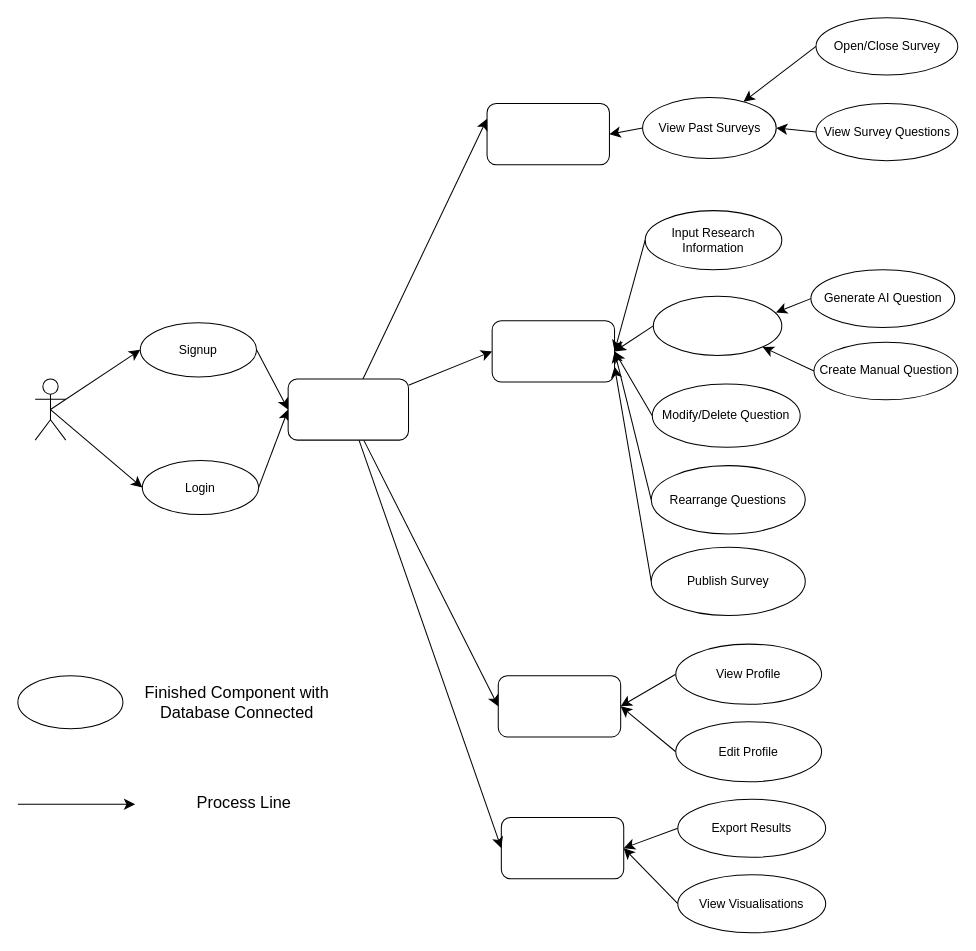
The diagram is 976 pixels wide and 951 high, and some of its shapes have lost their labels. The box of each missing label's shape, as (x1, y1, x2, y2) in pixels:
Account Information: (497, 675, 621, 737)
Create Question: (652, 295, 782, 355)
Create Survey: (491, 320, 615, 382)
Data Visualisation: (500, 817, 624, 879)
History: (486, 103, 609, 165)
Normal User: (287, 378, 409, 440)
User: (34, 378, 66, 440)
